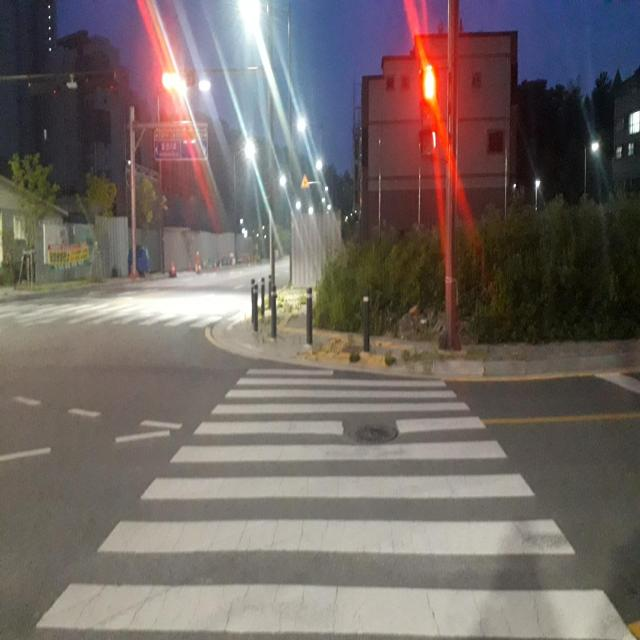빨간불: (418, 66, 439, 157)
횡단보도: (32, 362, 639, 640), (0, 294, 249, 327)
